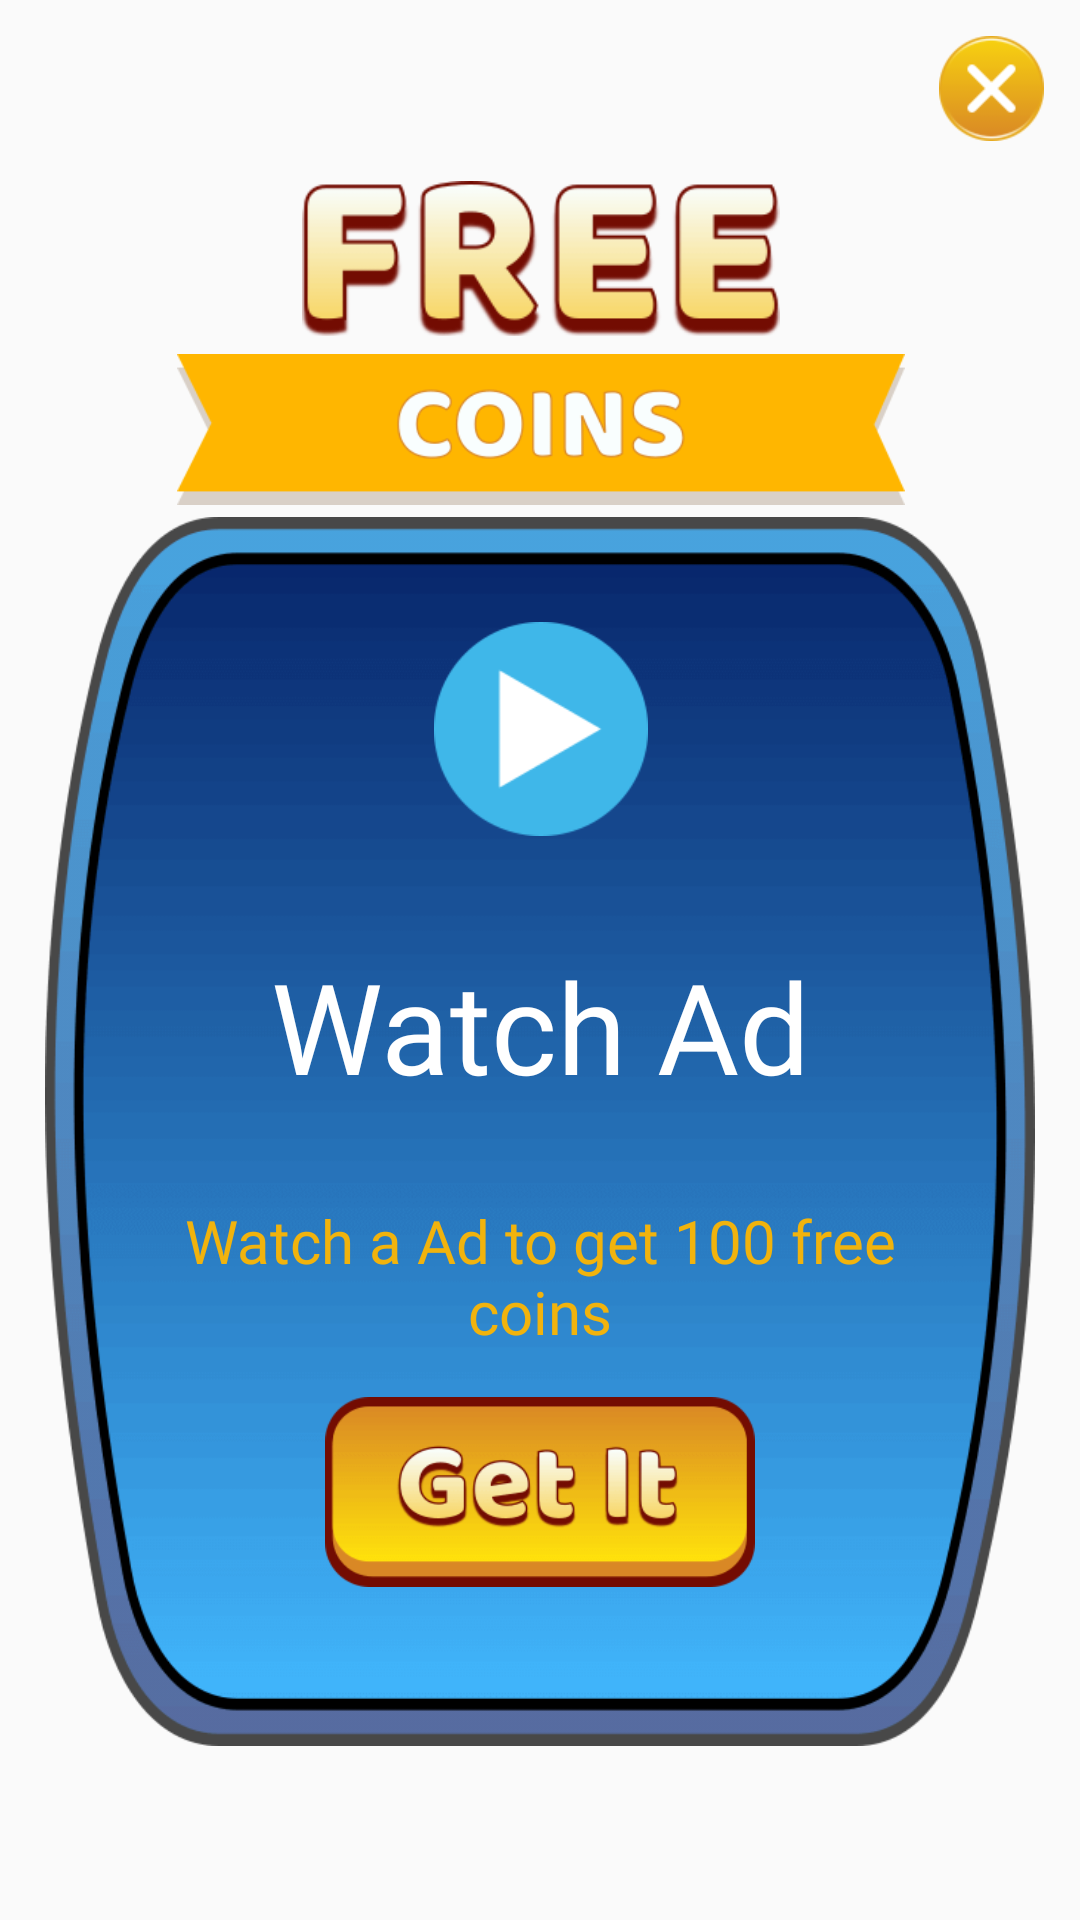

Point at icon controls on the screen. Image size 1080×1920, points as (x,y).
close: (991,88)
video: (541,729)
